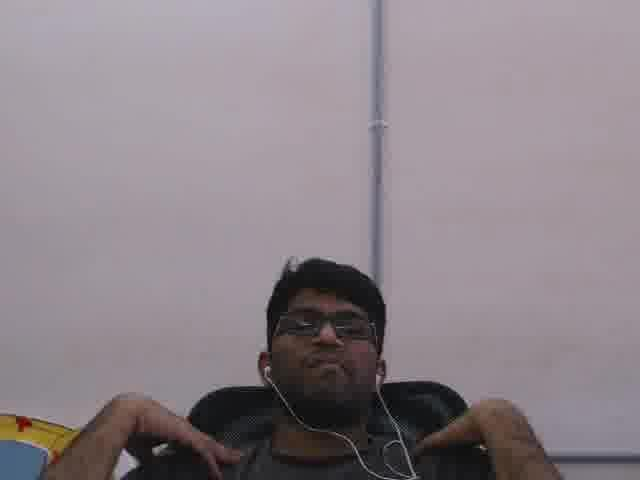bosan: (272, 284, 373, 402)
